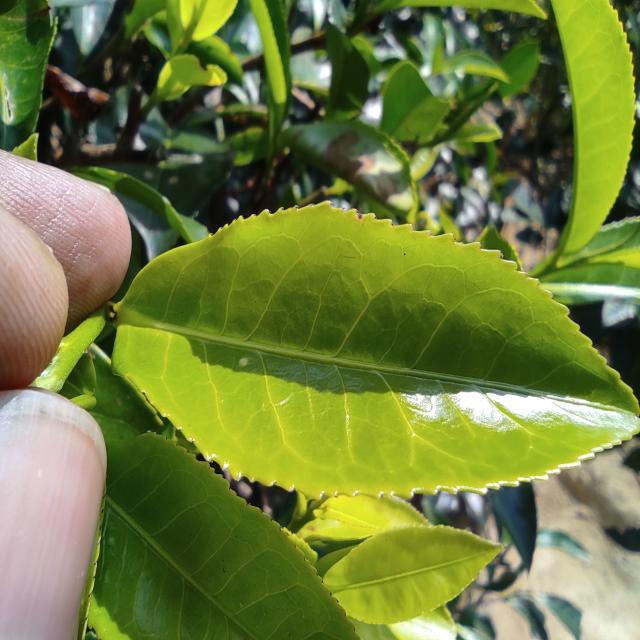Category C(4-7 days): (86, 174, 640, 534)
